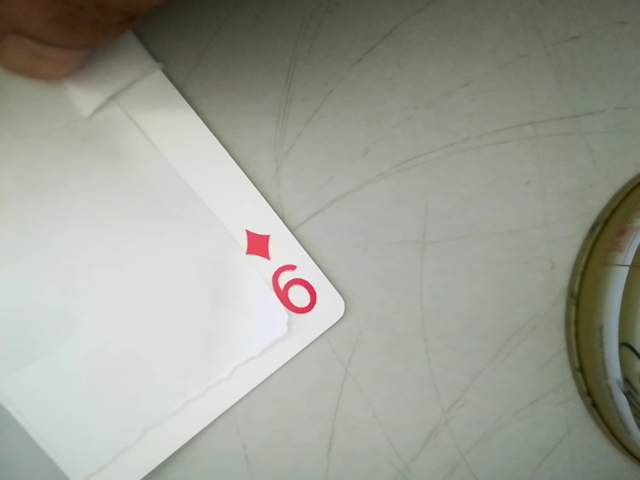fk 9: (238, 215, 326, 322)
